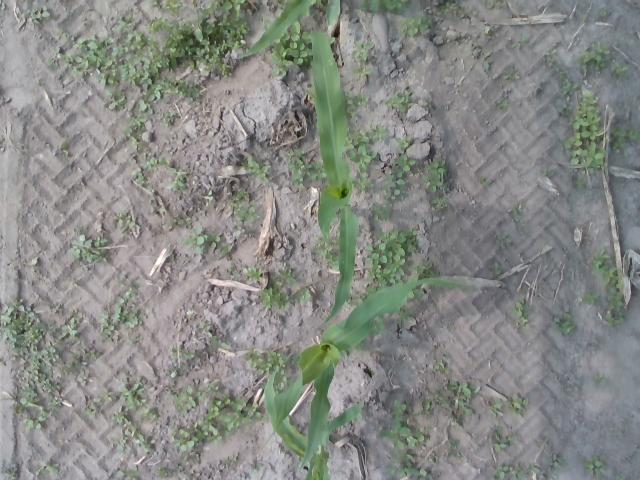Maize: (264, 278, 474, 470), (310, 29, 361, 328), (264, 350, 366, 480), (236, 0, 318, 62), (326, 0, 342, 26)
Weeds: (48, 0, 251, 158), (2, 299, 104, 434), (380, 378, 482, 480), (344, 123, 448, 219), (168, 364, 264, 462), (84, 368, 156, 456), (564, 93, 610, 190), (100, 269, 144, 348), (360, 227, 416, 283), (592, 247, 626, 327), (542, 49, 579, 117), (132, 156, 190, 192), (490, 453, 562, 480), (243, 348, 287, 390), (273, 35, 312, 82), (286, 148, 322, 193), (68, 227, 110, 264), (226, 188, 260, 232), (579, 38, 612, 83), (196, 320, 232, 354), (352, 40, 375, 86), (182, 228, 222, 254), (488, 394, 530, 418), (240, 156, 272, 186), (610, 124, 640, 156), (511, 296, 537, 332), (312, 236, 339, 266), (399, 12, 432, 36), (230, 262, 265, 284), (258, 286, 290, 310), (109, 208, 138, 234), (491, 424, 516, 454), (384, 91, 412, 116), (150, 0, 184, 19), (552, 312, 577, 337), (270, 267, 298, 289), (360, 0, 406, 13), (166, 216, 201, 233), (346, 92, 370, 116), (24, 5, 51, 24), (290, 287, 314, 308), (507, 202, 531, 223), (584, 454, 604, 479), (432, 351, 452, 376), (412, 262, 438, 280), (150, 192, 167, 216), (611, 60, 630, 80), (494, 233, 516, 250), (172, 347, 196, 362), (398, 306, 414, 328), (481, 48, 494, 74), (511, 36, 532, 52), (115, 468, 142, 480), (42, 460, 62, 476), (156, 466, 178, 480), (582, 287, 598, 306), (502, 67, 522, 82), (596, 9, 615, 24), (204, 190, 218, 207), (477, 176, 496, 188), (221, 456, 238, 469), (486, 1, 506, 12), (442, 1, 457, 15), (59, 142, 72, 158), (496, 99, 510, 113), (411, 288, 426, 301), (536, 168, 556, 177), (220, 245, 233, 258), (489, 262, 501, 275), (36, 74, 46, 89), (484, 22, 494, 37), (254, 464, 268, 474), (595, 371, 608, 381), (31, 255, 40, 268), (278, 0, 288, 11), (418, 99, 429, 109), (316, 0, 329, 7), (0, 138, 6, 152), (610, 426, 620, 434), (582, 14, 589, 25), (0, 96, 6, 107), (616, 475, 628, 480), (188, 310, 195, 318)
